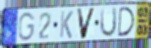2: (38, 12, 52, 40)
D: (117, 6, 136, 38)
G: (18, 12, 36, 42)
K: (59, 10, 74, 40)
U: (99, 7, 118, 39)
V: (75, 7, 97, 41)
